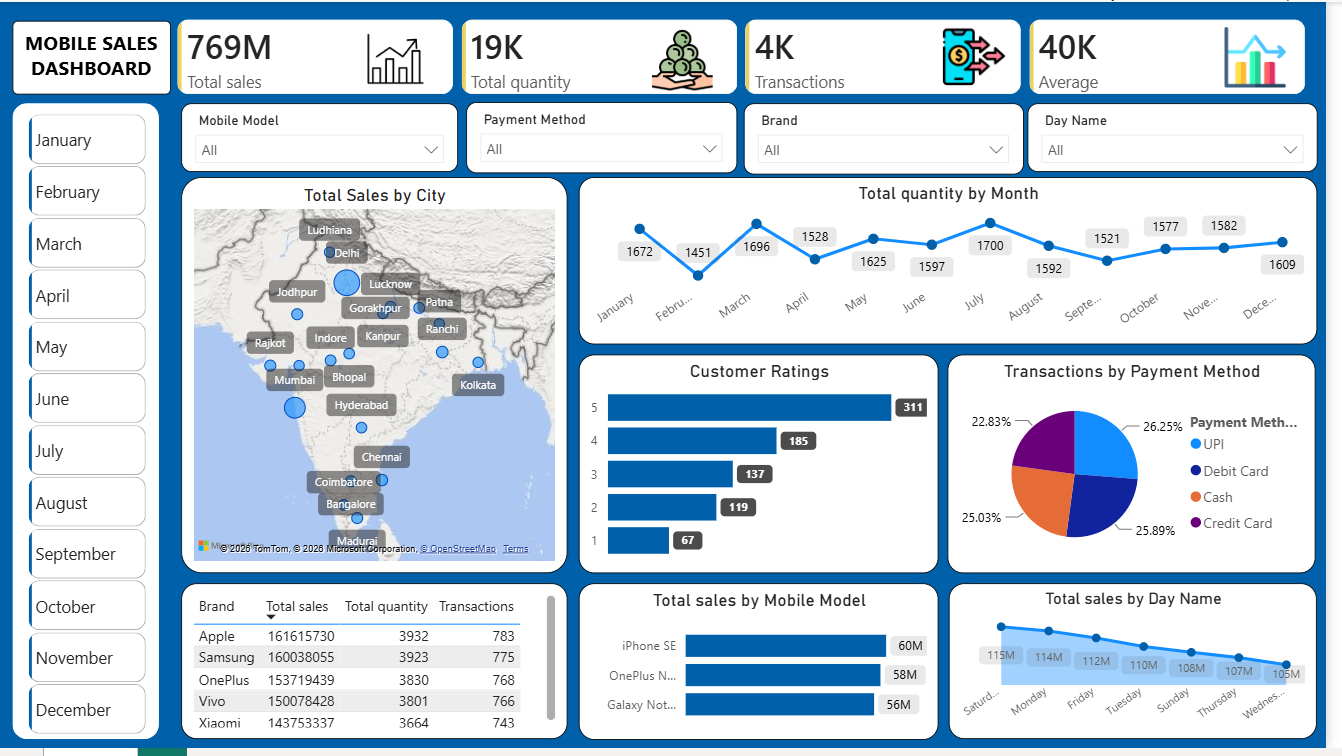

The page's visual inventory and layout, read from the dashboard file:
{"tool":"powerbi","page":{"name":"Page 1","canvas":[1280,720],"ordinal":0},"visuals":[{"type":"shape","box":[12.5,97.5,141.2,613.8],"z":0},{"type":"advancedSlicerVisual","fields":{"Values":["Sales_data.Date.Variation.Date Hierarchy.Month"]},"box":[25,106.2,117.5,605],"z":1000},{"type":"cardVisual","fields":{"Data":["Sales_data.Total sales","Sales_data.Total quantity","Sales_data.Transactions","Sales_data.Average"]},"box":[155,0,1125,106.2],"z":2000},{"type":"image","box":[340,20,82.5,68.8],"z":3000},{"type":"image","box":[627.5,23.8,62.5,63.8],"z":4000},{"type":"image","box":[906.2,22.5,67.5,60],"z":5000},{"type":"image","box":[1173.8,23.8,75,58.8],"z":6000},{"type":"map","title":"Total Sales by City","fields":{"Category":["Sales_data.City"],"Size":["Sales_data.Total sales"]},"box":[175,168.8,372.5,382.5],"z":7000},{"type":"lineChart","fields":{"Category":["Sales_data.Date.Variation.Date Hierarchy.Month"],"Y":["Sales_data.Total quantity"]},"box":[558.8,168.8,712.5,161.2],"z":8000},{"type":"clusteredBarChart","fields":{"Category":["Sales_data.Mobile Model"],"Y":["Sales_data.Total sales"]},"box":[558.6,561,347.5,150.8],"z":9000},{"type":"pieChart","fields":{"Category":["Sales_data.Payment Method"],"Y":["Sales_data.Transactions"]},"box":[915,340,355,211.2],"z":10000},{"type":"clusteredBarChart","title":"Customer Ratings ","fields":{"Category":["Sales_data.Customer Ratings"],"Y":["CountNonNull(Sales_data.Customer Ratings)"]},"box":[558.6,340.2,347.5,211.1],"z":11000},{"type":"stackedAreaChart","fields":{"Category":["Sales_data.Day Name"],"Y":["Sales_data.Total sales"]},"box":[916.2,561.2,355,150],"z":12000},{"type":"tableEx","fields":{"Values":["Sales_data.Brand","Sales_data.Total sales","Sales_data.Total quantity","Sales_data.Transactions"]},"box":[175,561.2,372.5,150],"z":13000},{"type":"slicer","fields":{"Values":["Sales_data.Mobile Model"]},"box":[175,97.5,267.5,66.2],"z":14000},{"type":"slicer","fields":{"Values":["Sales_data.Payment Method"]},"box":[450,96.2,261.2,68.8],"z":15000},{"type":"slicer","fields":{"Values":["Sales_data.Brand"]},"box":[717.5,97.5,270,68.8],"z":16000},{"type":"slicer","fields":{"Values":["Sales_data.Day Name"]},"box":[991.2,97.5,280,66.2],"z":17000},{"type":"textbox","box":[12.5,17.5,152.5,71.2],"z":19500}]}

Visuals, with their boxes in screenshot pixels (x1, y1, x2, y2), scaled from the page's 1280x720 canvas onto the 1342x756 screenshot:
shape: locate(13, 102, 161, 747)
advancedSlicerVisual - Sales_data.Date.Variation.Date Hierarchy.Month: locate(26, 112, 149, 747)
cardVisual - Sales_data.Total sales x Sales_data.Total quantity: locate(163, 0, 1341, 112)
image: locate(356, 21, 443, 93)
image: locate(658, 25, 723, 92)
image: locate(950, 24, 1021, 87)
image: locate(1231, 25, 1309, 87)
"Total Sales by City" map: locate(183, 177, 574, 579)
lineChart - Sales_data.Date.Variation.Date Hierarchy.Month x Sales_data.Total quantity: locate(586, 177, 1333, 346)
clusteredBarChart - Sales_data.Mobile Model x Sales_data.Total sales: locate(586, 589, 950, 747)
pieChart - Sales_data.Payment Method x Sales_data.Transactions: locate(959, 357, 1332, 579)
"Customer Ratings " clusteredBarChart: locate(586, 357, 950, 579)
stackedAreaChart - Sales_data.Day Name x Sales_data.Total sales: locate(961, 589, 1333, 747)
tableEx - Sales_data.Brand x Sales_data.Total sales: locate(183, 589, 574, 747)
slicer - Sales_data.Mobile Model: locate(183, 102, 464, 172)
slicer - Sales_data.Payment Method: locate(472, 101, 746, 173)
slicer - Sales_data.Brand: locate(752, 102, 1035, 175)
slicer - Sales_data.Day Name: locate(1039, 102, 1333, 172)
textbox: locate(13, 18, 173, 93)
